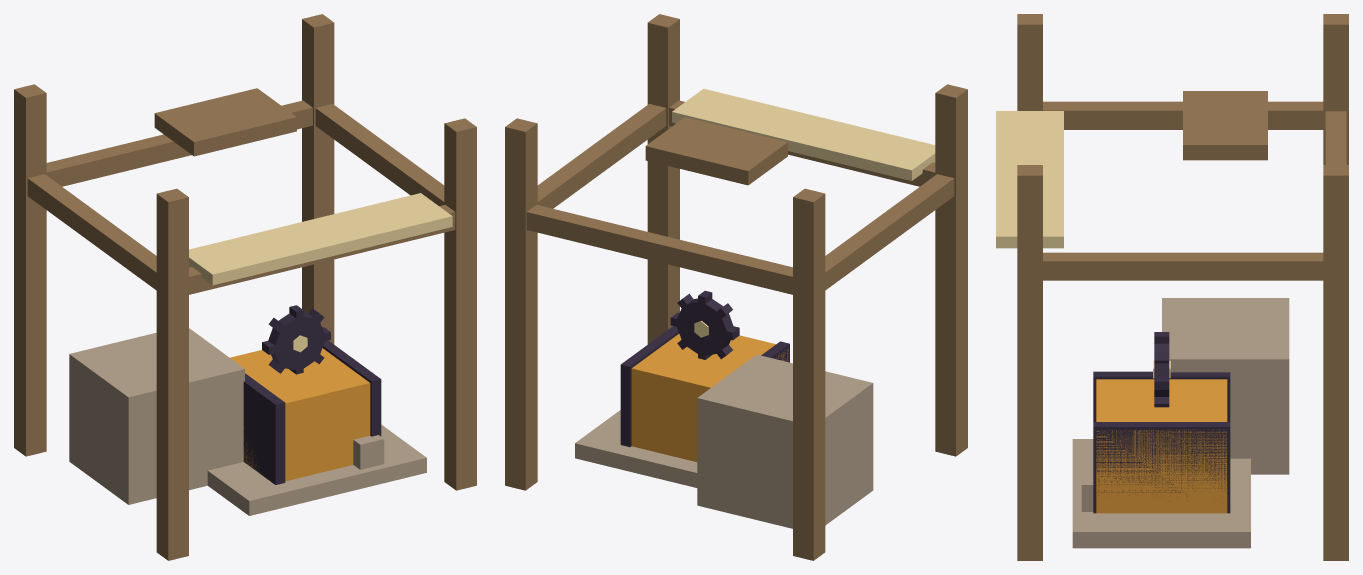
The model's file is factory-scaffold.glb.
The picture shows the model from 3 angles, left to right: view 1: azimuth 30°, elevation 25°; view 2: azimuth 150°, elevation 25°; view 3: azimuth 270°, elevation 25°; orthographic projection. The views are drawn at different scales.
Visible parts, largest first — view 1: factory-scaffold; view 2: factory-scaffold; view 3: factory-scaffold.
Part boxes in pixels (<box>): factory-scaffold: <box>14,14,476,560</box>; factory-scaffold: <box>505,14,967,560</box>; factory-scaffold: <box>996,14,1348,560</box>.
Bounding box in the file's own units: 0.9 × 1 × 0.83.
